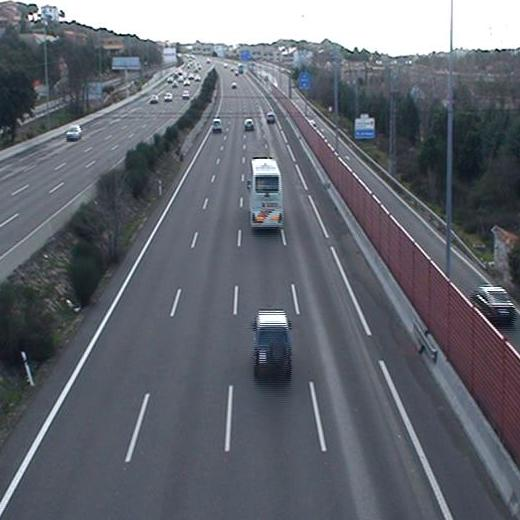bus: (244, 153, 289, 234)
car: (246, 305, 299, 386), (210, 116, 223, 135), (243, 117, 255, 132), (266, 111, 276, 125)
